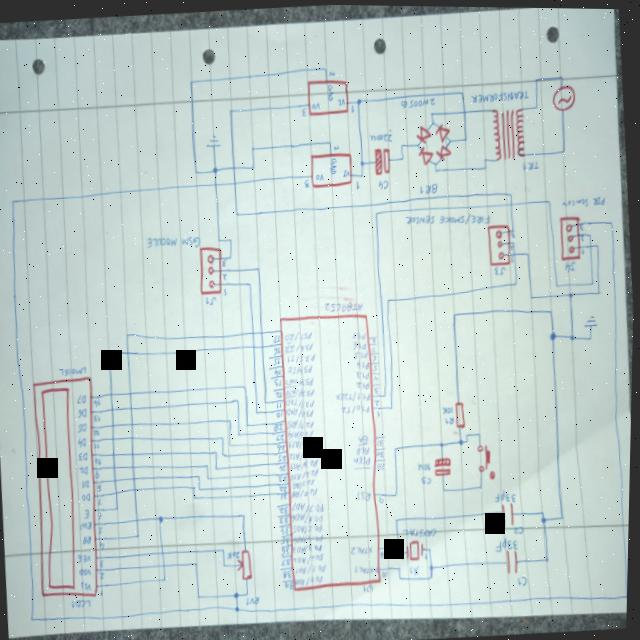capacitor: (372, 144, 392, 174), (500, 498, 517, 526), (433, 453, 453, 474), (506, 547, 521, 574)
crossover: (460, 106, 468, 114), (128, 403, 136, 411), (132, 484, 140, 492), (211, 179, 218, 188), (230, 162, 237, 170), (231, 178, 238, 186), (125, 348, 132, 356), (128, 388, 135, 396), (109, 389, 116, 397), (110, 404, 117, 412), (129, 419, 136, 427), (110, 420, 117, 428), (129, 433, 136, 441), (110, 433, 117, 441), (110, 449, 117, 457), (130, 449, 137, 457), (130, 461, 137, 469), (111, 462, 118, 470), (112, 475, 119, 483), (131, 473, 138, 481), (114, 487, 121, 495), (135, 515, 142, 523), (160, 548, 167, 556), (162, 560, 169, 568), (508, 198, 514, 206), (252, 342, 257, 348), (260, 342, 265, 348), (260, 328, 265, 334), (251, 328, 256, 334), (588, 240, 592, 246), (512, 250, 516, 255)
diode: (415, 122, 432, 143), (434, 121, 451, 142), (417, 143, 434, 164), (434, 142, 451, 160)
ground: (204, 132, 221, 148), (582, 311, 599, 326)
junction: (157, 512, 167, 523), (210, 163, 219, 175), (549, 328, 558, 339), (9, 196, 17, 205), (528, 291, 536, 299), (545, 552, 552, 561), (249, 142, 256, 151), (234, 589, 241, 597), (569, 331, 576, 339), (458, 436, 465, 444), (392, 442, 399, 450), (233, 209, 240, 217), (235, 604, 242, 612), (441, 483, 448, 491), (241, 509, 248, 517), (479, 480, 486, 488), (531, 74, 538, 82), (451, 308, 458, 316), (255, 263, 262, 271), (136, 531, 143, 539), (250, 162, 257, 170), (227, 105, 234, 113), (608, 217, 615, 225), (192, 167, 199, 175), (106, 346, 113, 354), (461, 133, 468, 141), (398, 152, 405, 160), (567, 289, 574, 297), (115, 503, 122, 511), (545, 195, 552, 203), (458, 86, 465, 94), (234, 395, 241, 403), (187, 77, 194, 85), (541, 513, 548, 521), (247, 278, 254, 286), (125, 330, 132, 338), (394, 514, 401, 521), (549, 305, 555, 313), (227, 236, 233, 243), (195, 559, 201, 566), (588, 331, 594, 338), (394, 489, 400, 496), (507, 188, 513, 195), (242, 382, 248, 389), (439, 438, 445, 445), (399, 140, 405, 147), (355, 96, 361, 103), (227, 253, 233, 260), (216, 235, 222, 242), (163, 575, 169, 582), (223, 560, 229, 567), (222, 546, 228, 553), (429, 572, 435, 578), (430, 563, 436, 569), (321, 64, 327, 70), (560, 145, 565, 152), (533, 102, 538, 109), (386, 295, 391, 302), (198, 592, 203, 598), (560, 512, 565, 518), (228, 416, 233, 422), (31, 615, 36, 621), (359, 170, 364, 176), (220, 434, 225, 440), (198, 484, 203, 490), (228, 439, 233, 445), (237, 429, 242, 435), (246, 420, 251, 426), (255, 408, 260, 414), (264, 397, 269, 403), (429, 544, 434, 550), (206, 460, 210, 467), (390, 402, 394, 408), (215, 448, 219, 454), (626, 590, 630, 596), (194, 493, 198, 499), (398, 542, 402, 548), (359, 158, 363, 164), (328, 138, 332, 144), (193, 483, 197, 489), (198, 472, 202, 478), (207, 473, 211, 479), (215, 464, 219, 470), (223, 450, 227, 456), (399, 573, 403, 579), (374, 209, 378, 215), (383, 391, 387, 397), (558, 71, 562, 77), (526, 250, 530, 255), (478, 429, 482, 434), (482, 163, 486, 168), (595, 241, 599, 246), (542, 507, 546, 512), (597, 287, 601, 292), (555, 281, 559, 286), (590, 278, 594, 283), (514, 279, 518, 284), (511, 238, 515, 243), (483, 155, 487, 160), (434, 167, 438, 172), (433, 160, 437, 165), (448, 136, 452, 141), (430, 118, 434, 123), (416, 141, 420, 146), (429, 109, 433, 114), (246, 589, 250, 594), (511, 225, 515, 230), (466, 437, 470, 441), (588, 230, 592, 234), (398, 564, 402, 568), (398, 549, 402, 553), (466, 431, 469, 435)
resistor: (236, 546, 255, 580), (454, 398, 467, 428)
source: (550, 81, 576, 110)
switch: (477, 440, 493, 471)
terminal: (197, 243, 225, 294), (485, 220, 513, 265), (558, 213, 583, 259)
text: (405, 207, 490, 228), (469, 86, 530, 103), (146, 231, 201, 249), (561, 192, 606, 207), (323, 297, 364, 313), (336, 387, 371, 402), (403, 523, 438, 537), (285, 327, 314, 343), (292, 498, 325, 512), (292, 509, 324, 523), (293, 550, 325, 564), (291, 465, 320, 480), (399, 95, 435, 107), (495, 534, 520, 551), (58, 363, 88, 377), (290, 456, 320, 470), (296, 561, 328, 574), (289, 446, 318, 460), (287, 425, 315, 439), (285, 374, 315, 387), (494, 486, 518, 502), (287, 350, 316, 363), (341, 401, 372, 413), (284, 340, 315, 352), (293, 521, 324, 533), (294, 531, 325, 543), (293, 541, 324, 553), (285, 385, 315, 397), (286, 395, 316, 407), (296, 573, 326, 585), (286, 405, 315, 417), (286, 416, 315, 428), (351, 541, 375, 555), (288, 361, 313, 374), (289, 436, 316, 448), (292, 485, 319, 497), (293, 475, 316, 489), (368, 130, 393, 142), (353, 453, 373, 468), (355, 560, 376, 574), (71, 596, 94, 608), (419, 180, 438, 193), (356, 487, 373, 501), (521, 157, 539, 169), (352, 347, 370, 358), (77, 552, 94, 563), (247, 593, 262, 605), (417, 459, 433, 470), (79, 565, 95, 576), (352, 338, 368, 349), (563, 257, 576, 270), (76, 391, 89, 404), (358, 431, 371, 444), (227, 548, 242, 559), (357, 443, 372, 454), (325, 82, 334, 100), (493, 263, 507, 274), (410, 561, 421, 575), (357, 357, 371, 368), (81, 579, 94, 590), (83, 532, 94, 545), (81, 519, 94, 530), (513, 522, 526, 533), (377, 176, 388, 189), (205, 293, 218, 304), (356, 368, 370, 378), (329, 156, 337, 173), (355, 379, 370, 388), (82, 491, 93, 503), (272, 332, 283, 344), (518, 572, 529, 584), (78, 420, 89, 432), (283, 566, 294, 578), (78, 435, 88, 448), (441, 404, 455, 413), (353, 329, 367, 338), (445, 412, 456, 423), (78, 406, 89, 417), (281, 544, 292, 555), (364, 581, 375, 592), (335, 94, 345, 106), (377, 458, 387, 470), (310, 98, 321, 108), (422, 473, 433, 483), (79, 450, 90, 460), (80, 464, 91, 474), (286, 578, 296, 589), (281, 534, 292, 544), (273, 420, 284, 430), (283, 555, 293, 565), (93, 396, 102, 407), (82, 477, 91, 488), (280, 514, 291, 523), (279, 504, 290, 513), (341, 166, 350, 176), (314, 171, 324, 180), (281, 523, 291, 532), (377, 447, 386, 457), (380, 548, 389, 557), (279, 462, 288, 471), (278, 442, 287, 451), (277, 431, 286, 440), (274, 376, 283, 385), (272, 355, 281, 364), (93, 412, 102, 421), (377, 436, 386, 445), (95, 455, 103, 465), (84, 508, 92, 518), (99, 539, 107, 549), (278, 452, 288, 460), (273, 344, 281, 354), (279, 473, 288, 481), (303, 177, 310, 187), (300, 105, 307, 115), (95, 468, 102, 478), (379, 494, 387, 502), (99, 570, 107, 578), (281, 491, 289, 499), (274, 366, 282, 374), (93, 428, 101, 436), (223, 285, 229, 295), (97, 483, 104, 491), (222, 271, 229, 279), (383, 568, 390, 576), (221, 257, 228, 265), (100, 558, 107, 566), (98, 525, 105, 533), (97, 510, 104, 518), (373, 384, 380, 392), (280, 484, 288, 491), (276, 409, 283, 417), (94, 440, 101, 448), (355, 178, 360, 188), (350, 102, 355, 112), (276, 389, 283, 396), (98, 496, 104, 504), (509, 252, 514, 261), (101, 586, 106, 595), (374, 397, 380, 404), (277, 400, 283, 407), (332, 143, 339, 149), (372, 362, 378, 369), (399, 551, 406, 557), (580, 244, 585, 252), (579, 220, 584, 228), (374, 372, 379, 380), (328, 69, 334, 75), (579, 231, 584, 238), (511, 228, 516, 235), (377, 407, 381, 415), (373, 353, 377, 360), (425, 550, 429, 557), (509, 242, 513, 248), (372, 344, 376, 350), (373, 336, 376, 341)
transformer: (487, 104, 528, 161)
